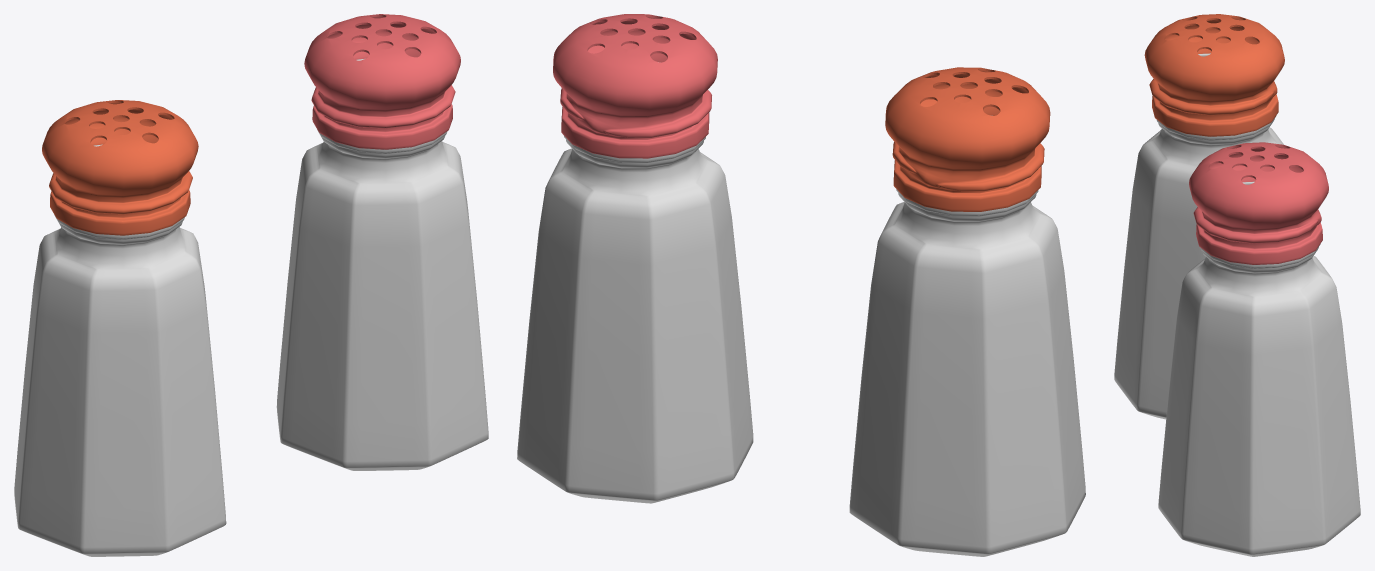
Rendered from salt and pepper shaker.fbx.
The picture shows the model from 3 angles, left to right: view 1: azimuth 30°, elevation 25°; view 2: azimuth 150°, elevation 25°; view 3: azimuth 270°, elevation 25°; orthographic projection. The views are drawn at different scales.
Visible parts, largest first — view 1: Pepper, Salt, Lid.001, Lid; view 2: Salt, Pepper, Lid, Lid.001; view 3: Pepper, Salt, Lid, Lid.001.
Part boxes in pixels (x1,y1,x2,y2): Pepper: [276, 58, 488, 470]; Salt: [14, 144, 226, 556]; Lid.001: [304, 14, 460, 149]; Lid: [42, 100, 198, 235]; Salt: [849, 115, 1085, 556]; Pepper: [517, 62, 753, 503]; Lid: [885, 67, 1050, 211]; Lid.001: [553, 14, 717, 158]; Pepper: [1158, 181, 1360, 556]; Salt: [1114, 53, 1283, 419]; Lid: [1144, 14, 1284, 136]; Lid.001: [1189, 142, 1328, 264].
Bounding box in the file's own units: 17.28 × 14 × 8.49.
